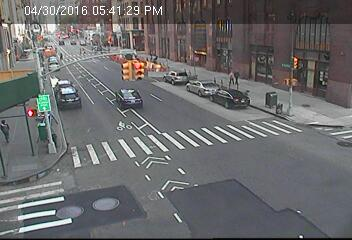neg: (305, 28, 327, 58), (283, 35, 305, 64), (238, 31, 258, 58), (204, 41, 216, 57), (186, 62, 195, 75)
pos: (1, 117, 20, 143), (219, 68, 234, 88), (234, 68, 248, 87), (56, 49, 65, 62)
